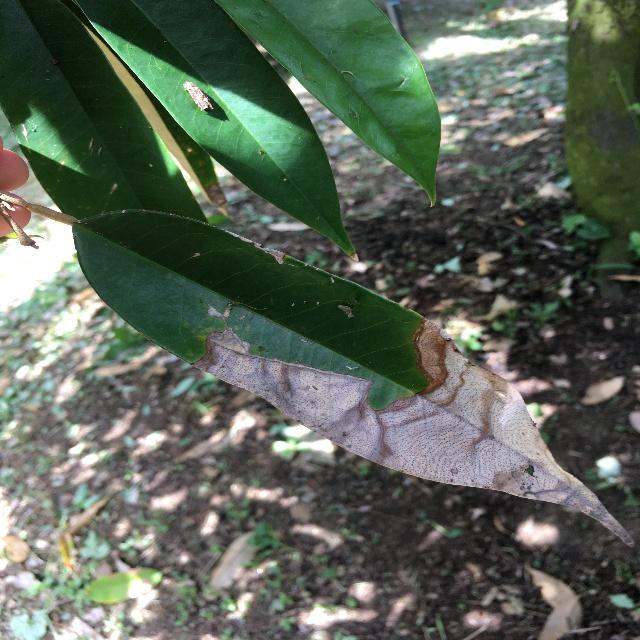Leaf Blight: (69, 197, 640, 559)
